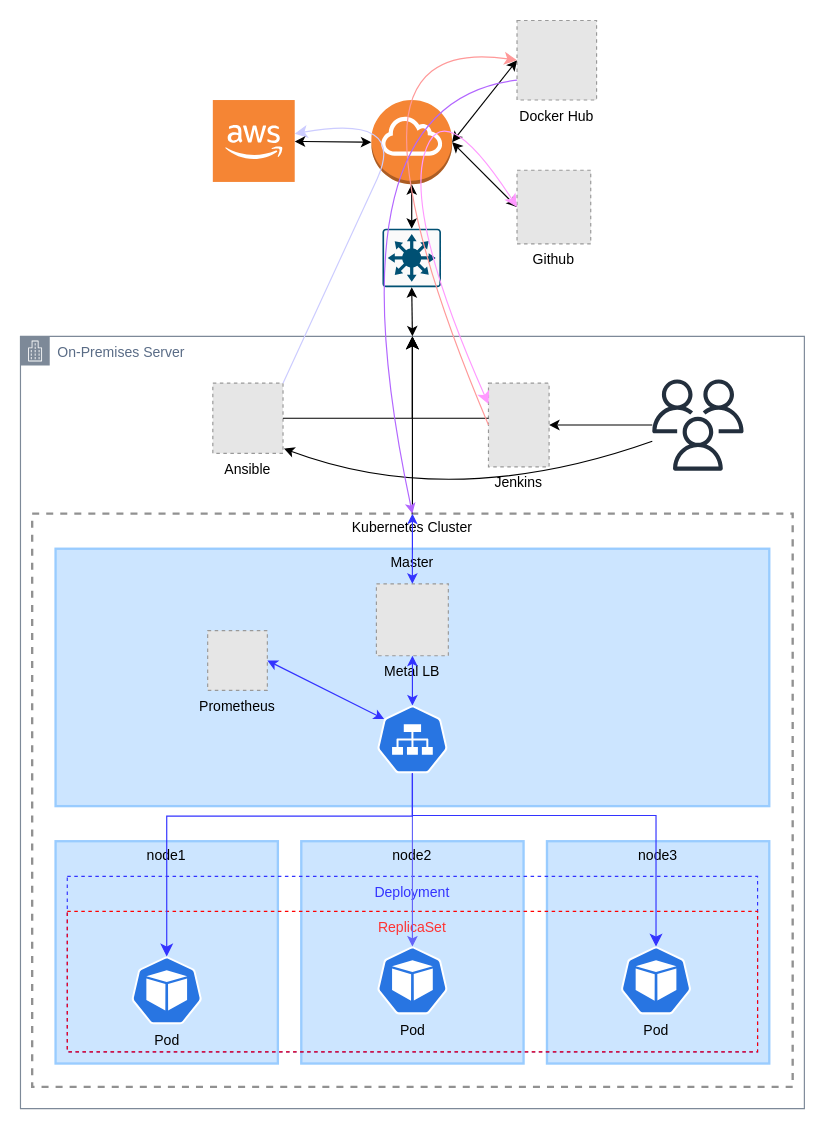
Image size: 825x1129. Some labels were removed from this diagram. Grey dashed boxes stand in for pictures. Here are the shapes that lost their labels. From the top down, the centre of each, then its label:
At point 253,140: "AWS".
At point 411,141: "Internet".
At point 697,424: "Users".
At point 412,738: "Service".
